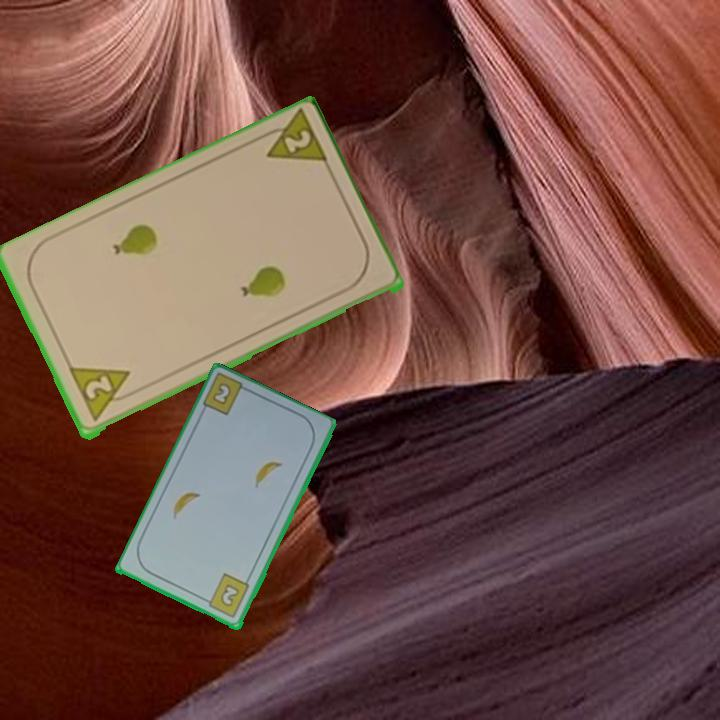2b: (200, 570, 253, 621), (209, 379, 234, 408)
2p: (253, 108, 332, 169), (66, 364, 140, 427)
